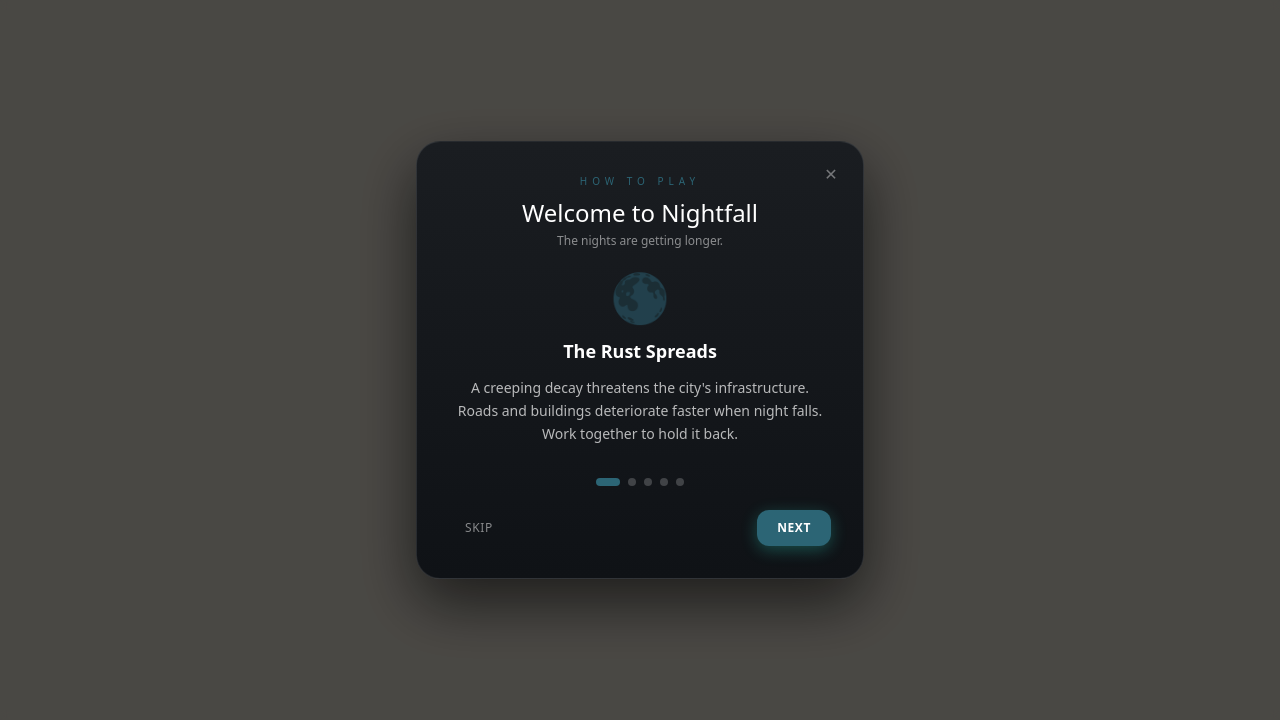
OnboardingOverlay › step navigation › clicking step indicator changes step
The image size is (1280, 720).
// Click on step 3 indicator
Click the tab named "Step 3: Manage Resources" at (648, 482), box [644,478,652,486]
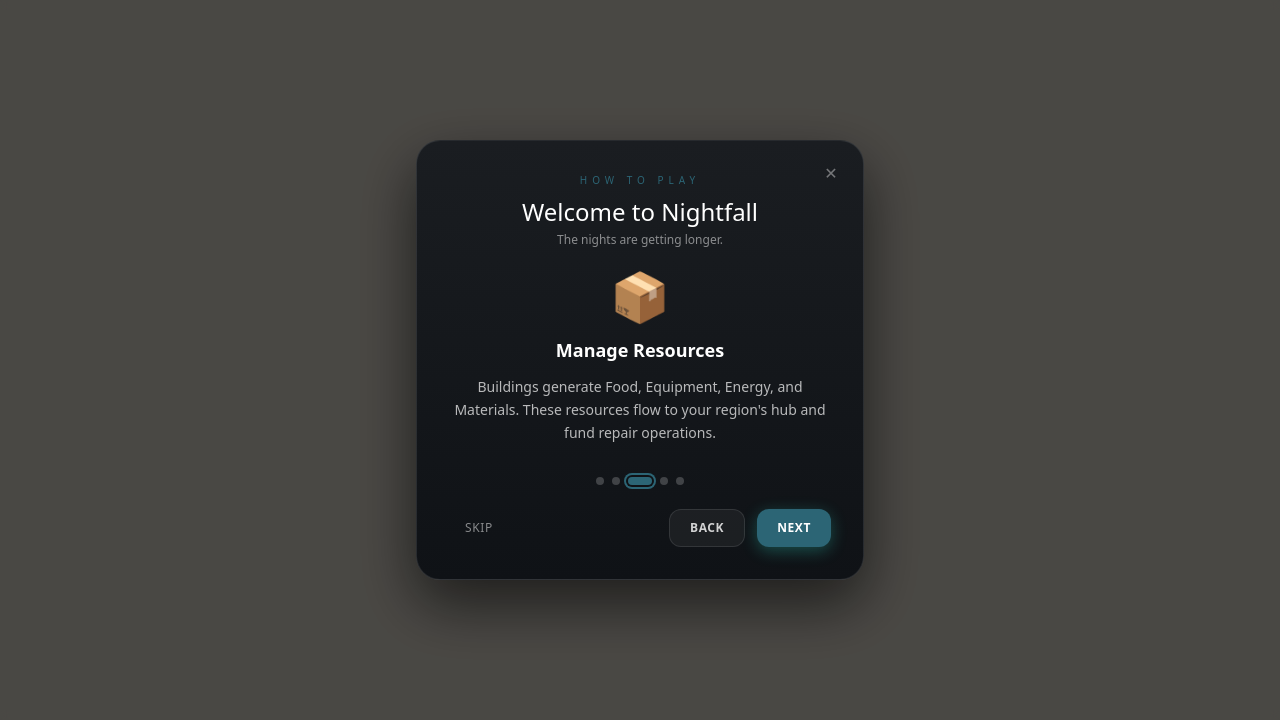
Now the heading "Manage Resources" is shown, box [556,338,724,362]
